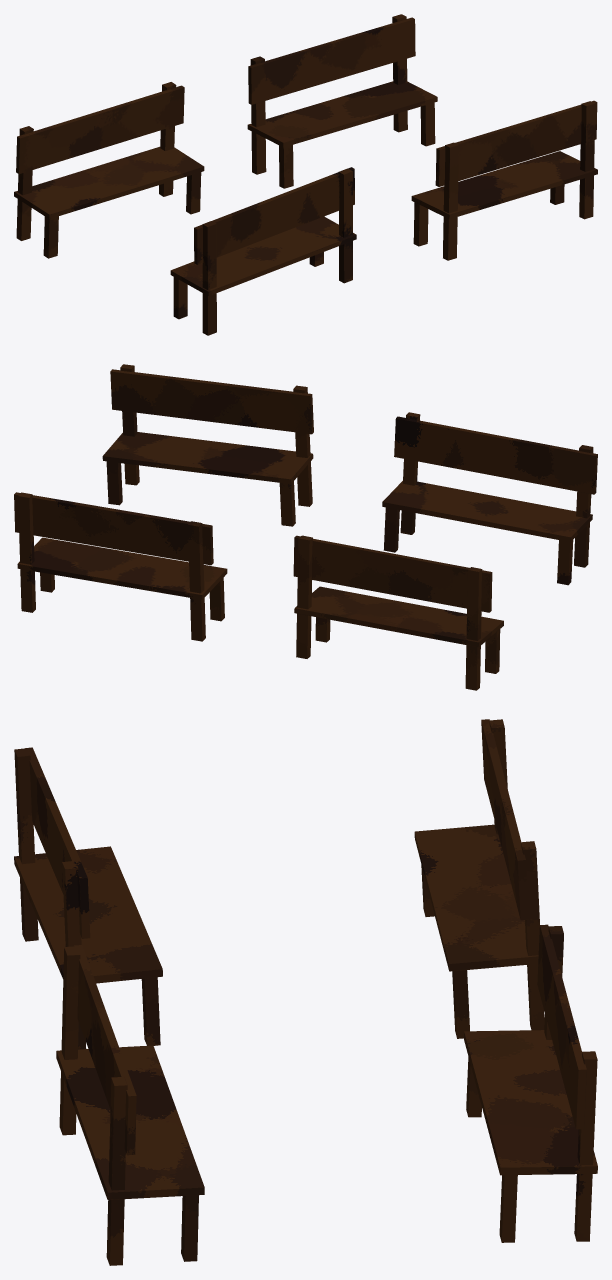
Rendered from Las #2 Ławki.glb.
3 views of the same model, one above another, from view 1: azimuth 30°, elevation 25°; view 2: azimuth 150°, elevation 25°; view 3: azimuth 270°, elevation 25° (orthographic). The views are drawn at different scales.
Visible parts, largest first — view 1: Cube.016; view 2: Cube.016; view 3: Cube.016.
Part boxes in pixels (x1,y1,x2,y2): Cube.016: (14, 14, 597, 335); Cube.016: (14, 364, 597, 690); Cube.016: (14, 719, 597, 1265).
Bounding box in the file's own units: 43.59 × 11 × 28.52.
Materials: 1 (1 with a texture image).
